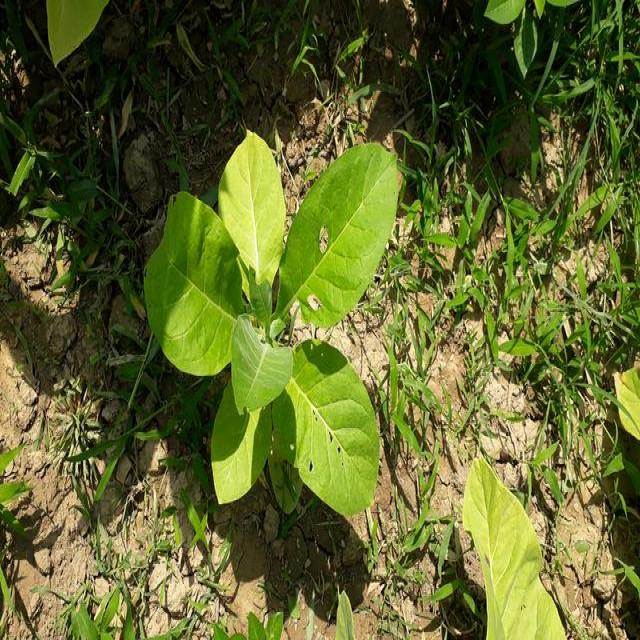crop: (142, 127, 408, 529), (461, 463, 568, 640), (42, 0, 116, 68)
